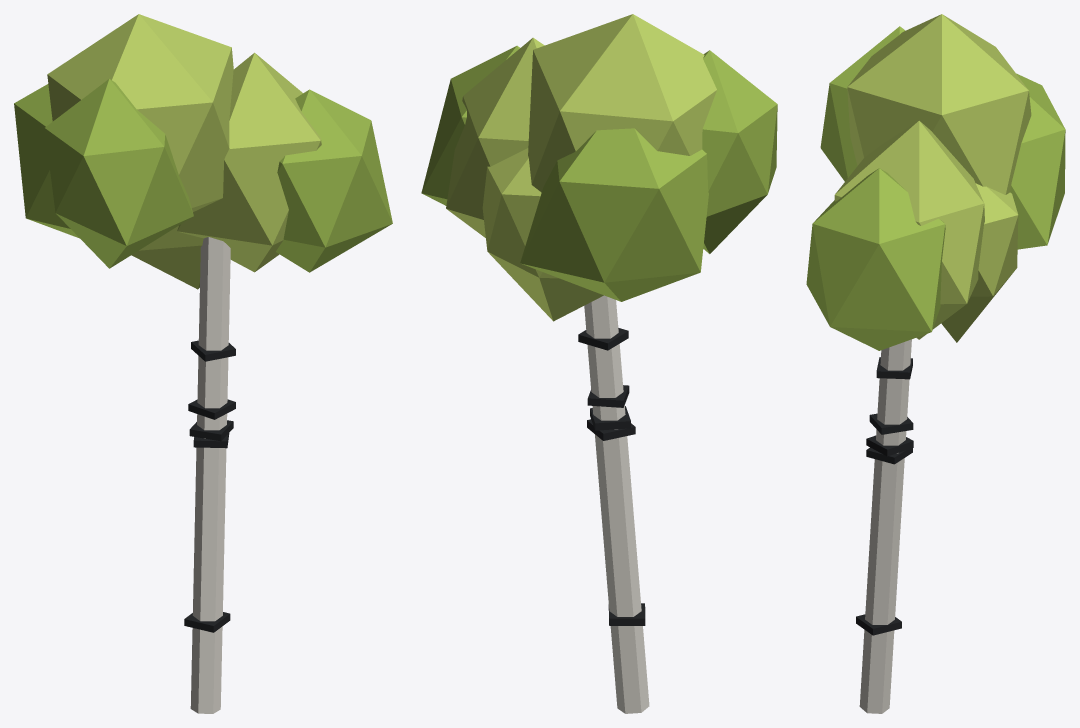
Rendered from bjork_2.glb.
3 renders of one model, left to right at view 1: azimuth 30°, elevation 25°; view 2: azimuth 150°, elevation 25°; view 3: azimuth 270°, elevation 25°, orthographic. The views are drawn at different scales.
Parts seen in each view (by area): view 1: bjork_2; view 2: bjork_2; view 3: bjork_2.
Part boxes in pixels (<box>): bjork_2: <box>14,14,392,713</box>; bjork_2: <box>421,14,777,713</box>; bjork_2: <box>806,14,1065,713</box>.
Size of the model in its own units: 3.77 by 7.99 by 2.77.
